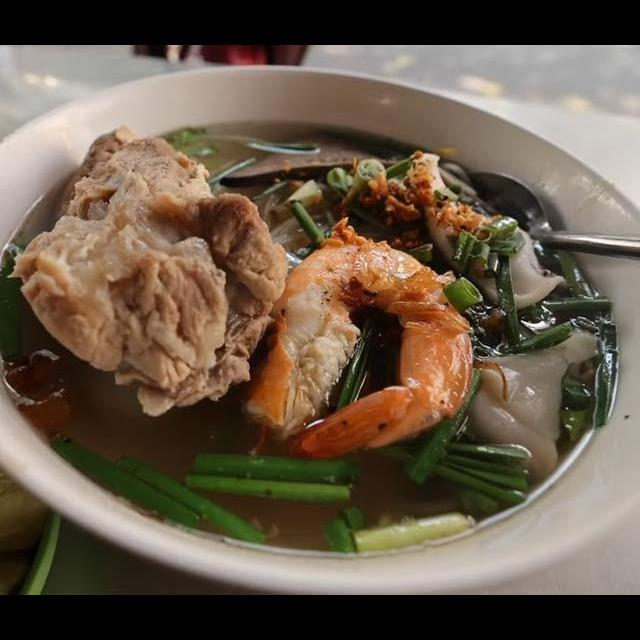gan: (208, 117, 438, 194)
thit heo: (3, 121, 292, 423)
tom: (238, 229, 478, 466)
